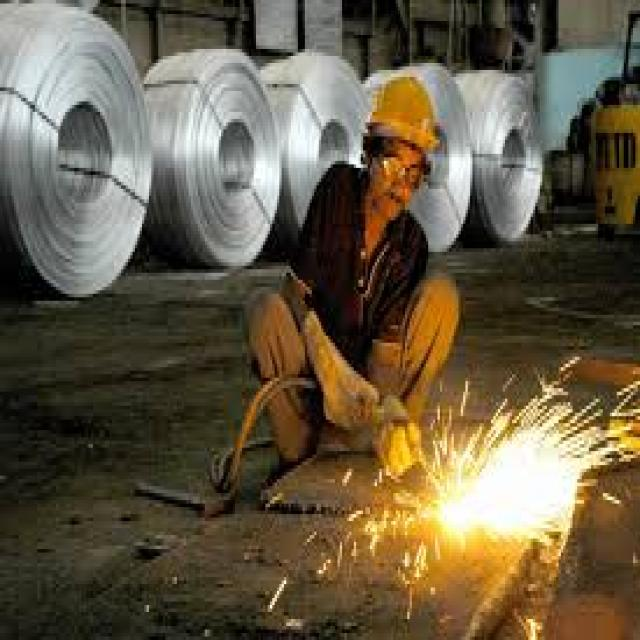without_helmet: (367, 141, 432, 221)
